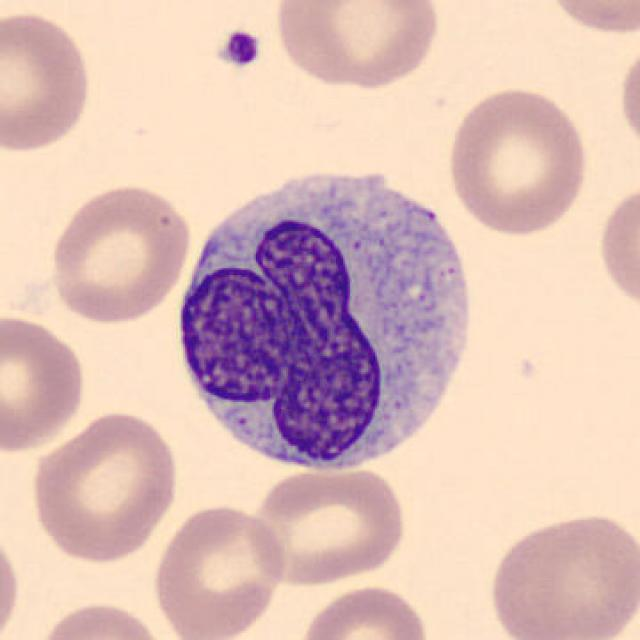Monocyte: (163, 152, 489, 484)
Platelets: (215, 27, 265, 72)
RBC: (25, 407, 183, 564), (443, 83, 592, 238), (46, 180, 194, 326), (484, 506, 636, 640), (247, 464, 409, 589), (149, 500, 289, 640), (270, 0, 444, 93), (0, 5, 96, 157), (0, 310, 91, 457), (295, 582, 432, 640), (594, 176, 638, 318), (32, 597, 170, 640), (539, 0, 638, 39), (615, 37, 640, 164), (0, 520, 23, 640)
